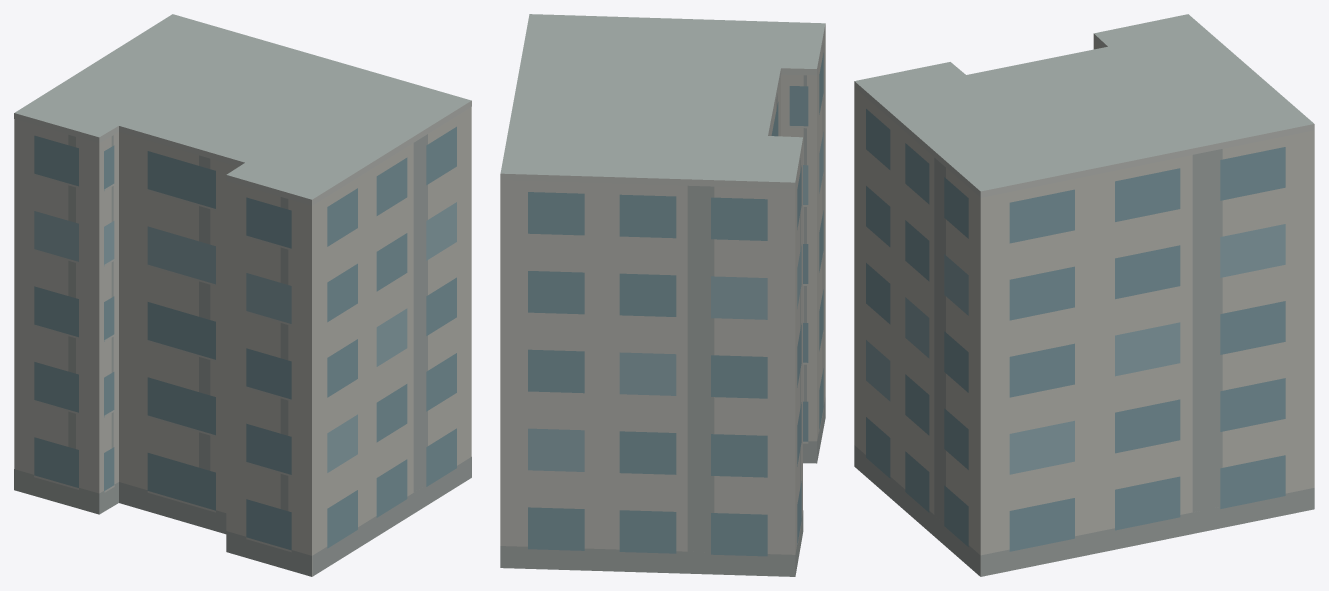
The model's file is survey-upis-32828244.glb.
3 views of the same model, side by side, from view 1: azimuth 30°, elevation 25°; view 2: azimuth 150°, elevation 25°; view 3: azimuth 270°, elevation 25° (orthographic). The views are drawn at different scales.
Parts seen in each view (by area): view 1: survey-upis-32828244.tmp; view 2: survey-upis-32828244.tmp; view 3: survey-upis-32828244.tmp.
Part boxes in pixels (x1,y1,x2,y2): survey-upis-32828244.tmp: [14, 14, 471, 576]; survey-upis-32828244.tmp: [500, 14, 825, 576]; survey-upis-32828244.tmp: [854, 14, 1314, 576].
Bounding box in the file's own units: 14.72 × 14.9 × 16.13.
